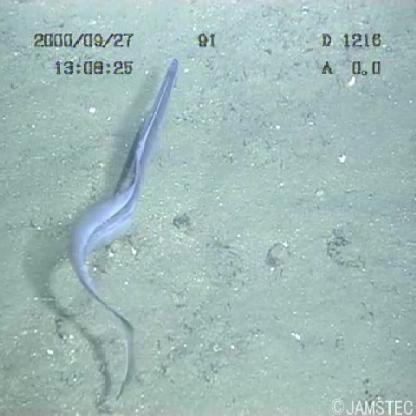Bio: (61, 52, 184, 409)
